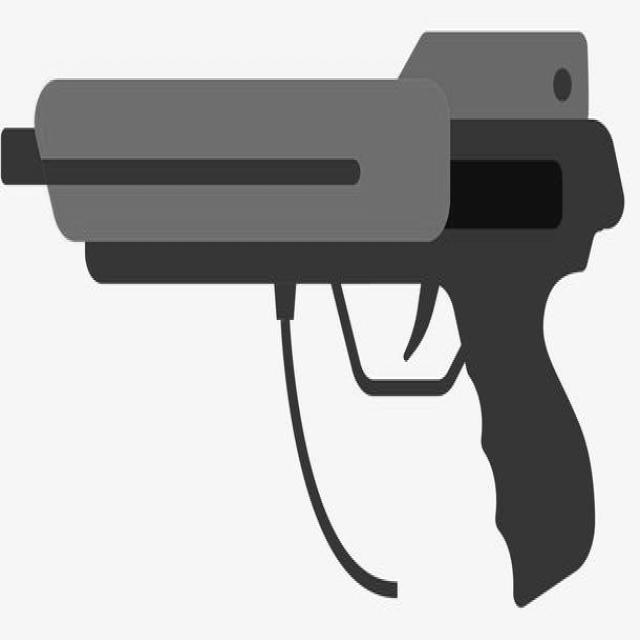gun: (1, 28, 624, 606)
